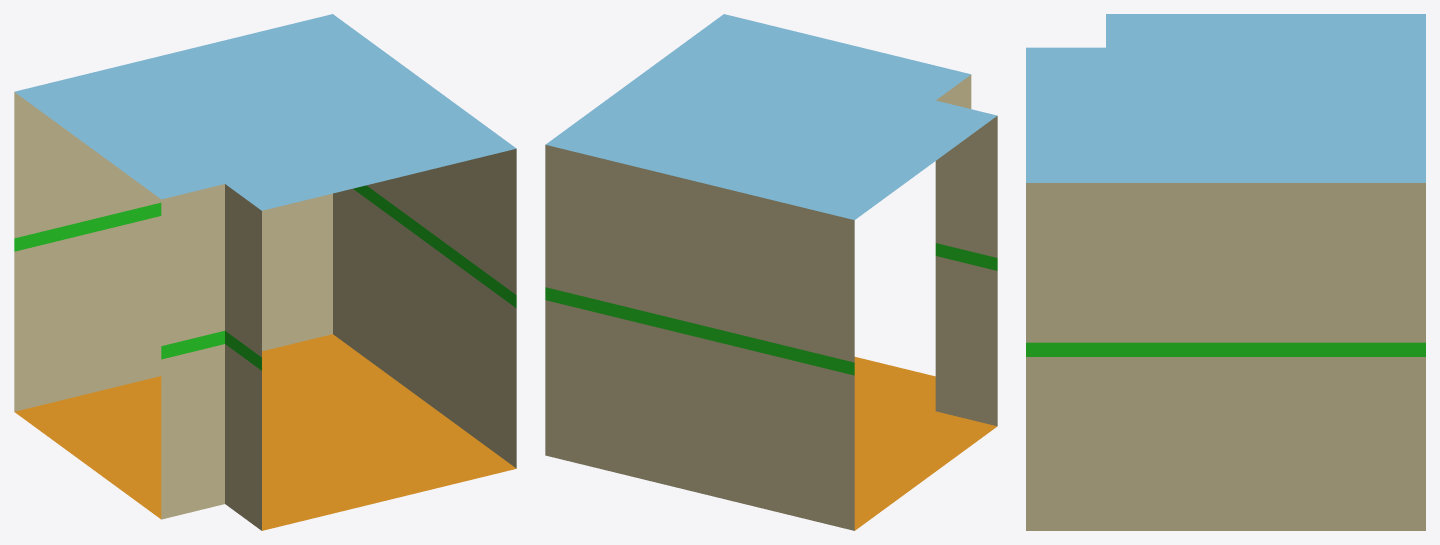
3 renders of one model, left to right at view 1: azimuth 30°, elevation 25°; view 2: azimuth 150°, elevation 25°; view 3: azimuth 270°, elevation 25°, orthographic. The views are drawn at different scales.
Parts seen in each view (by area): view 1: corner_sharp; view 2: corner_sharp; view 3: corner_sharp.
Part boxes in pixels (x1,y1,x2,y2): corner_sharp: [14, 14, 516, 530]; corner_sharp: [545, 14, 997, 530]; corner_sharp: [1026, 14, 1425, 530].
Bounding box in the file's own units: 250 × 240 × 250.
